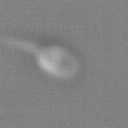normal: (1, 31, 39, 56)
